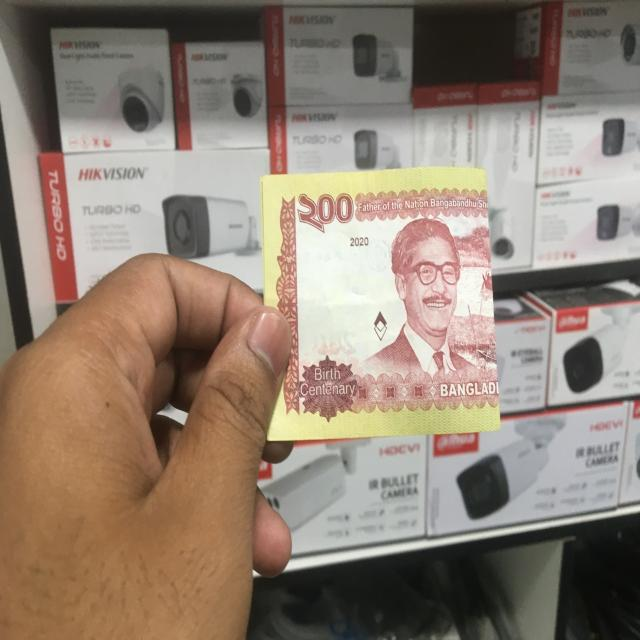Taka: (264, 173, 498, 430)
